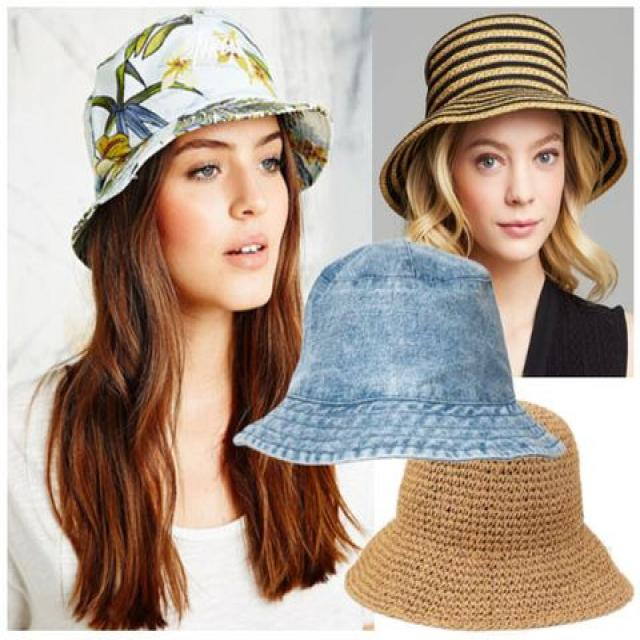hat: (61, 11, 332, 313), (377, 11, 627, 263)
